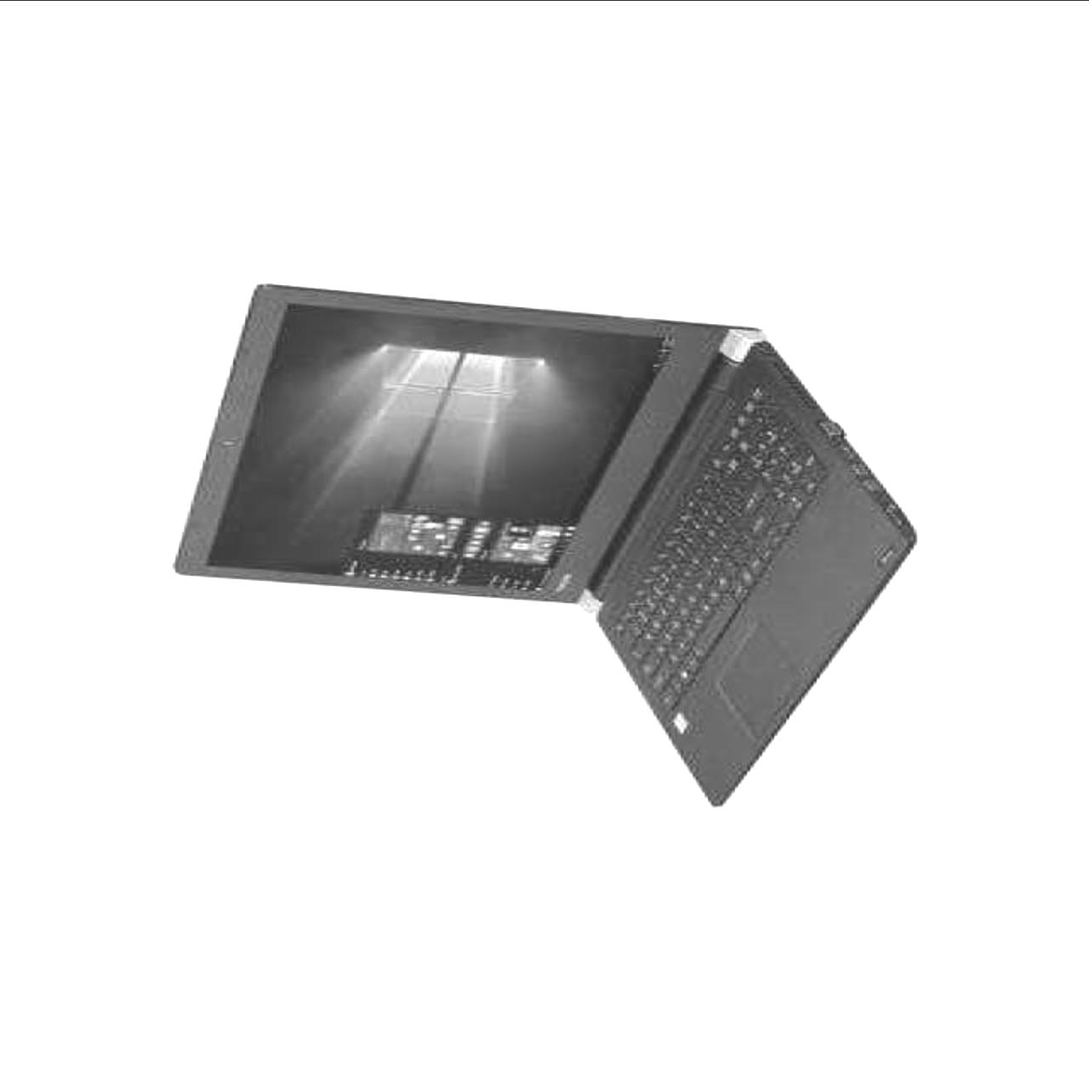laptop: (158, 277, 917, 782)
